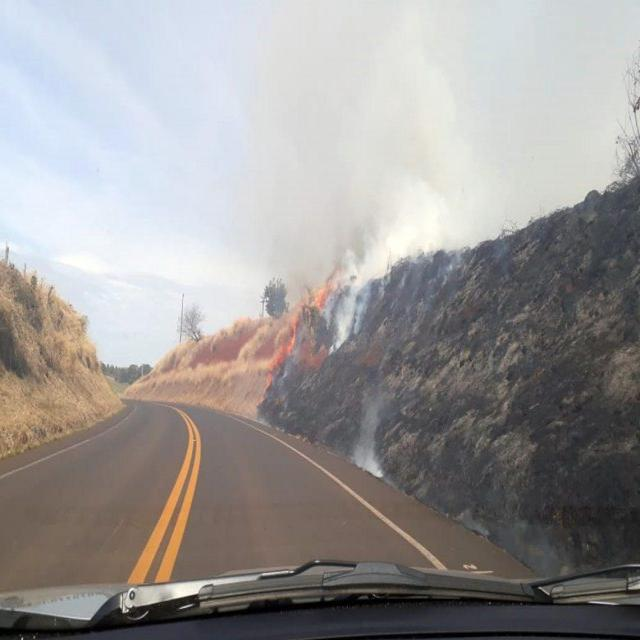Fire: (261, 281, 340, 382)
